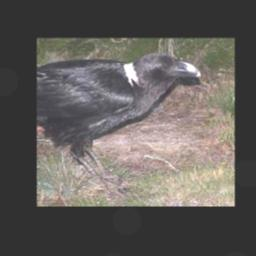Crow: (37, 51, 201, 200)
